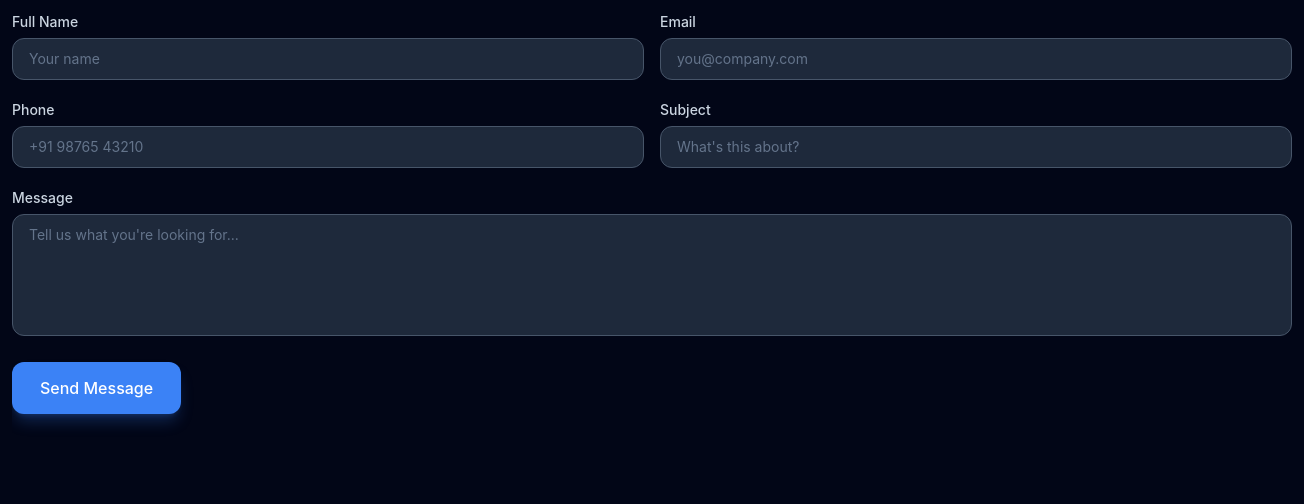
Test: ContactForm › shows email validation error for bad email
Type "Alice" into the field labelled "Full Name" at (328, 59), box [12,38,644,80]
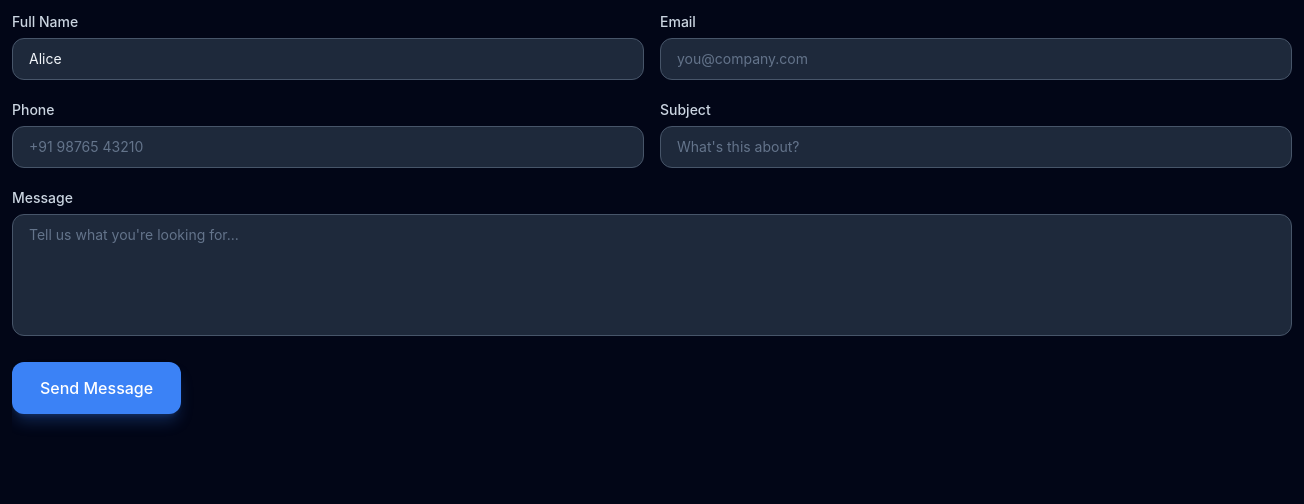
Type "notanemail" into the field labelled "Email" at (976, 59), box [660,38,1292,80]
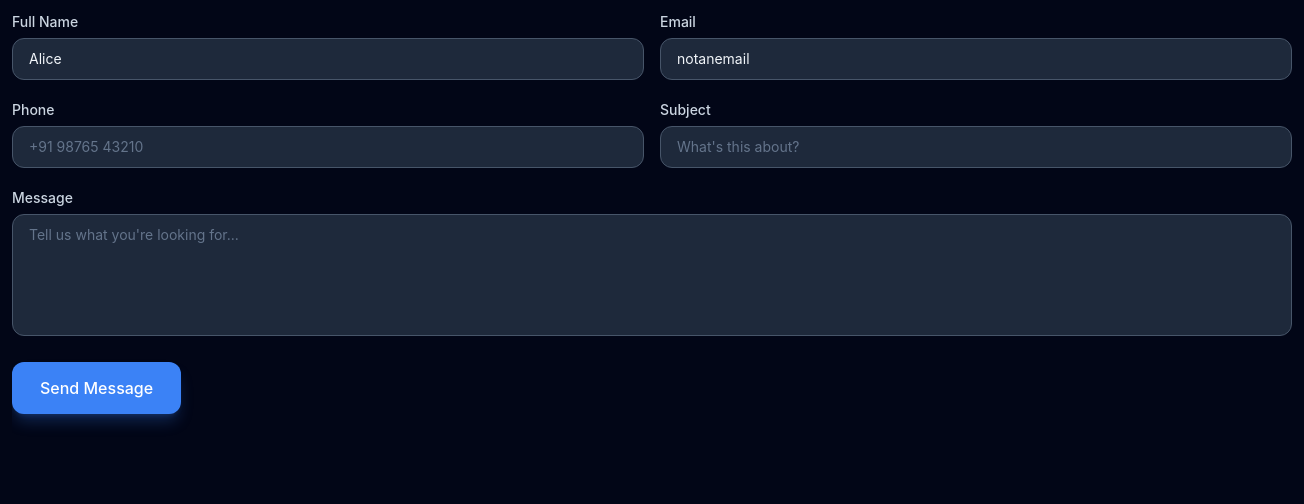
Click the button "Send Message" at (97, 388), box [12,362,181,414]
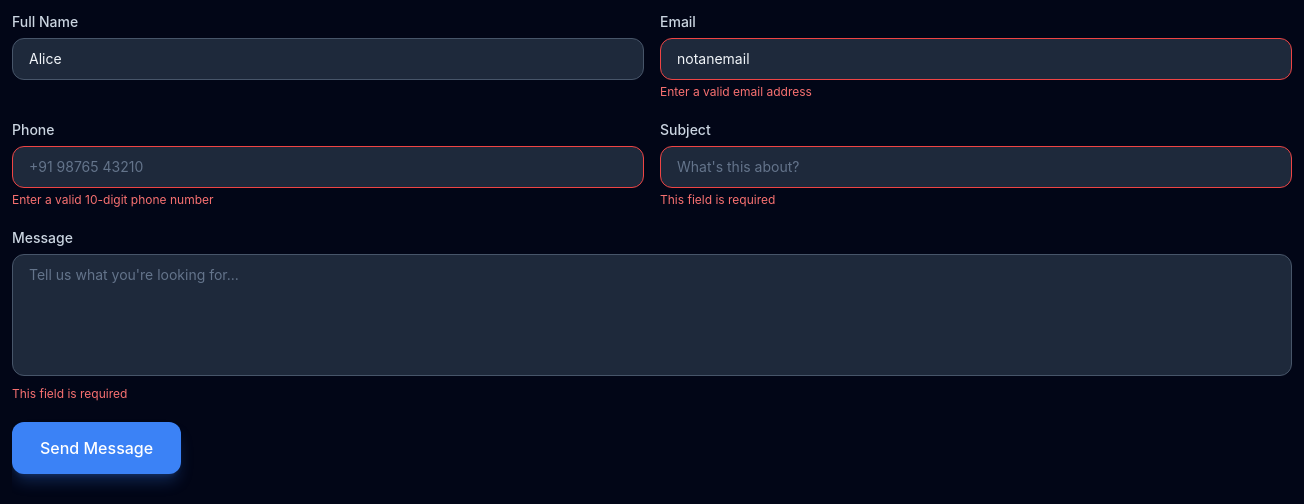
Expected: the text "Enter a valid email address" is shown, [660,84,812,99]
